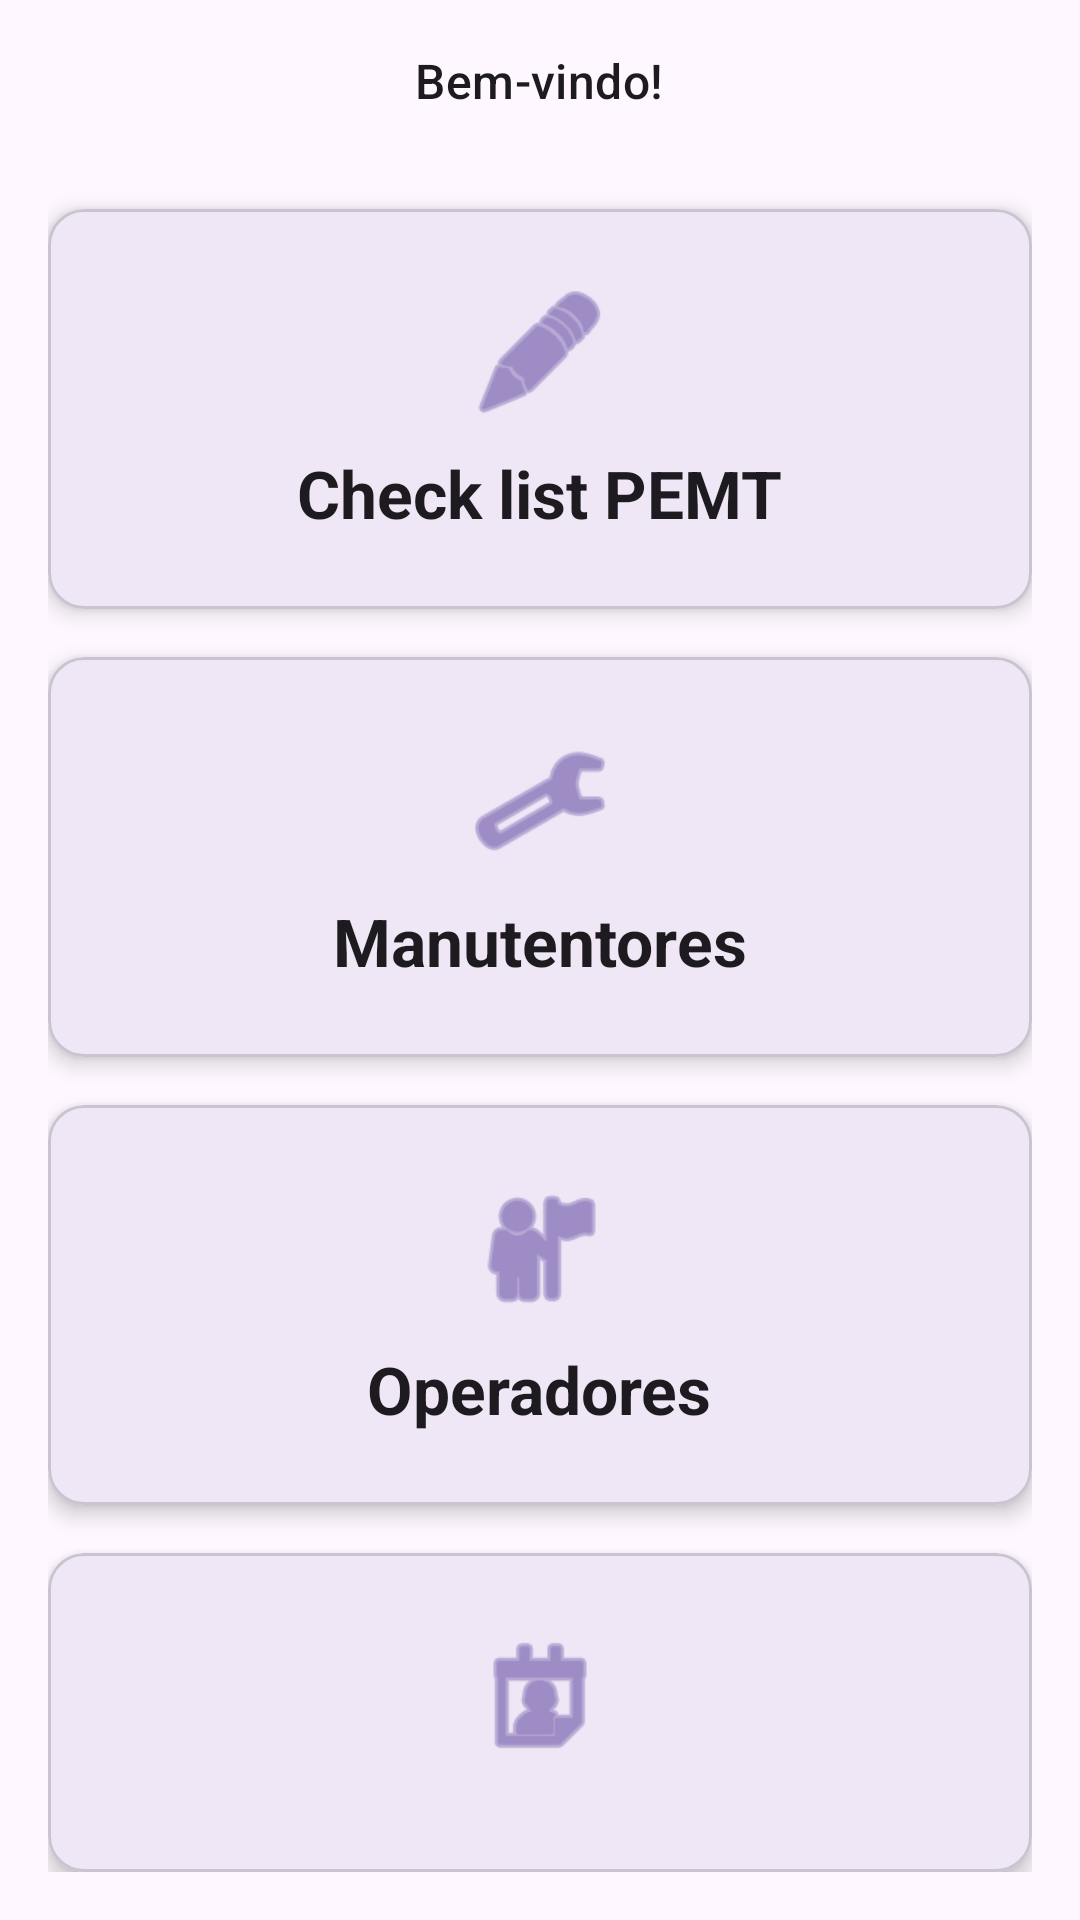

Icons on this 1080*1920 Android screen, each with the point to tap as [x,y]:
calendar: [540,1695]
edit: [539,352]
preferences: [540,801]
